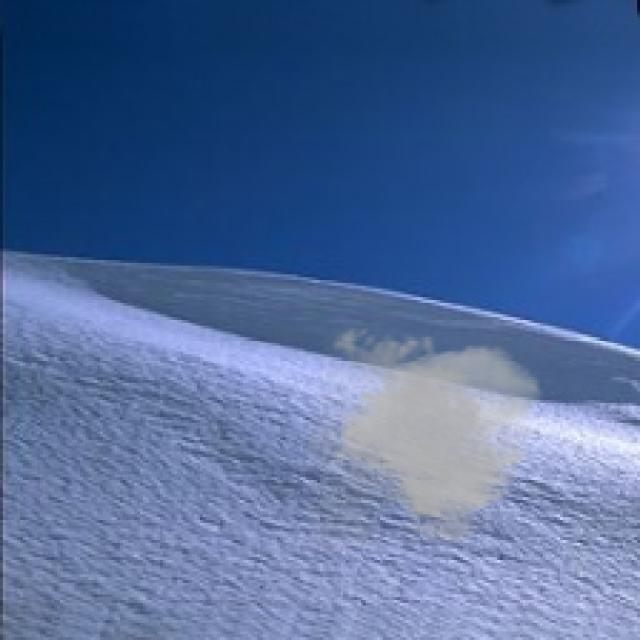Smoke: (308, 319, 546, 552)
